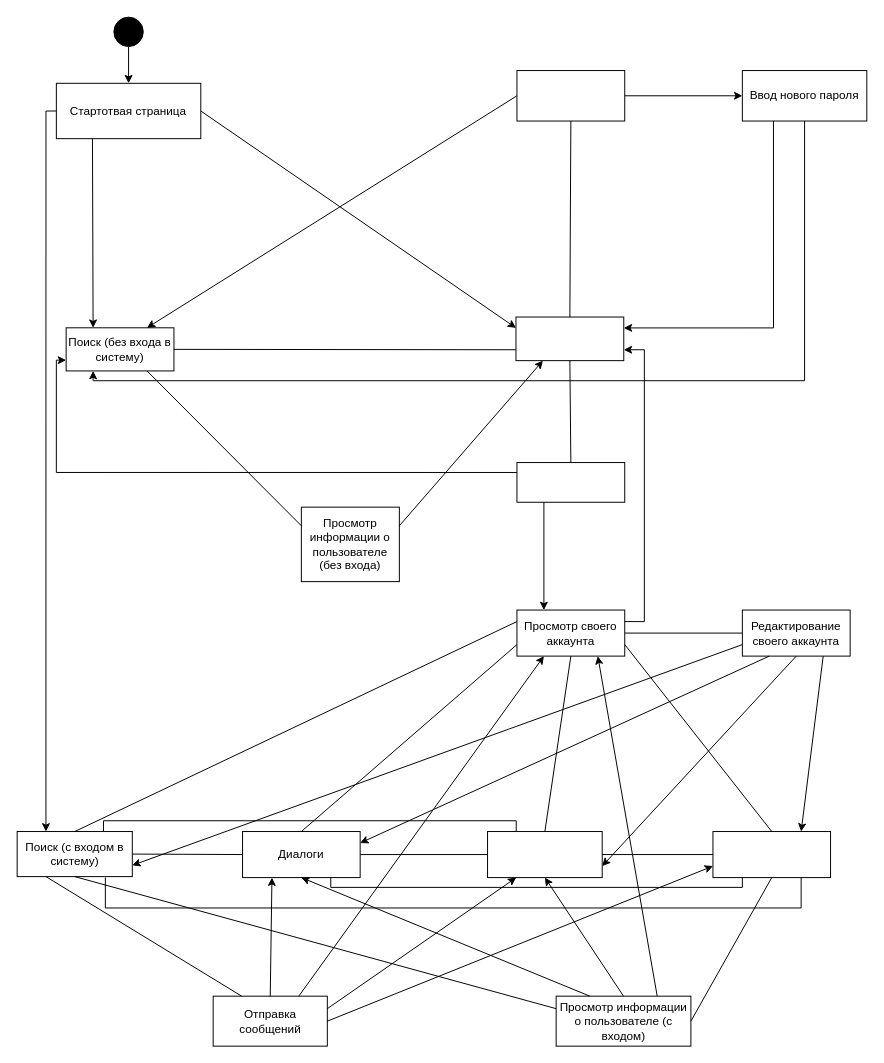
The diagram is 884 pixels wide and 1063 high, and some of its shapes have lost their labels. The centre of each missing label's shape, as x and y in pixels:
Восстановление пароля: [570,95]
Вход в систему: [569,338]
Просмотр уведомлений: [544,854]
Регистрация: [570,482]
Сохраненные пользователи: [771,854]
